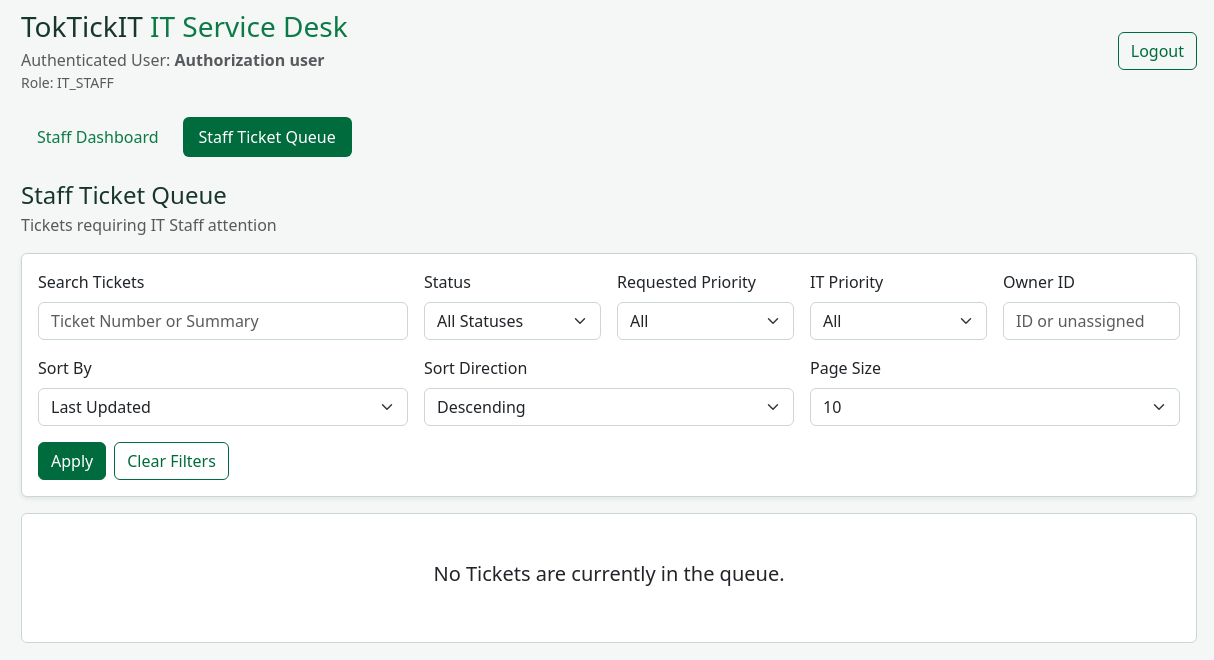
Test: AUTH-01: IT_STAFF keeps only permitted navigation and refuses forbidden Dashboard data
Click the button "Staff Dashboard" at (98, 137), box [21,117,174,157]
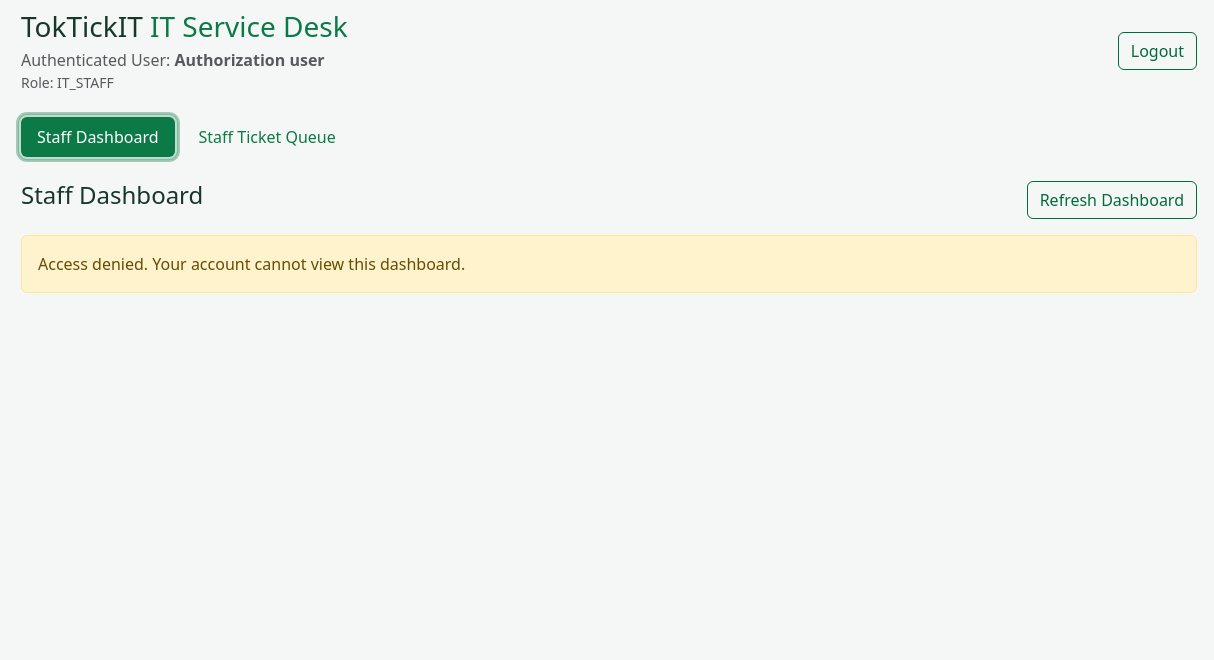
Expected: the text "Access denied. Your account cannot view this dashboard." is shown, [21,235,1197,293]
